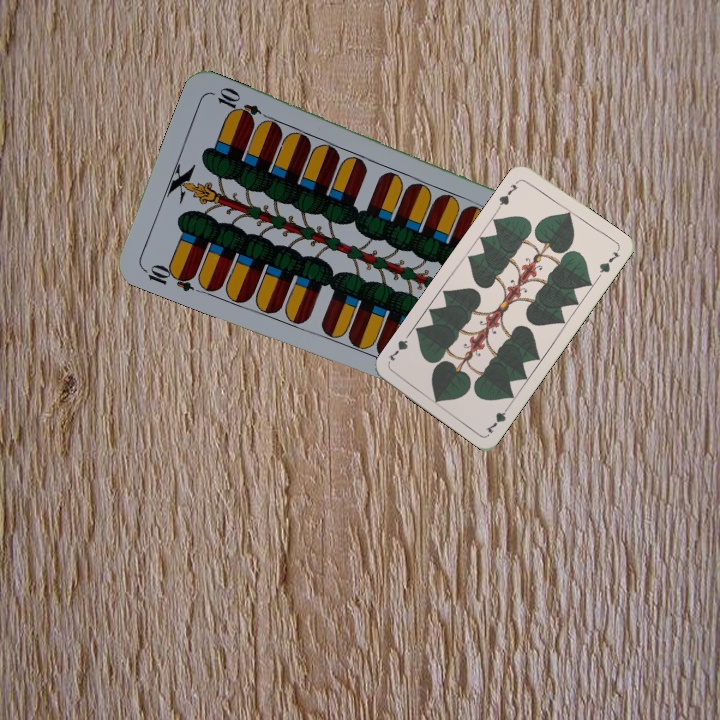E10: (139, 260, 198, 294)
G7: (481, 401, 513, 436), (494, 176, 522, 212)
